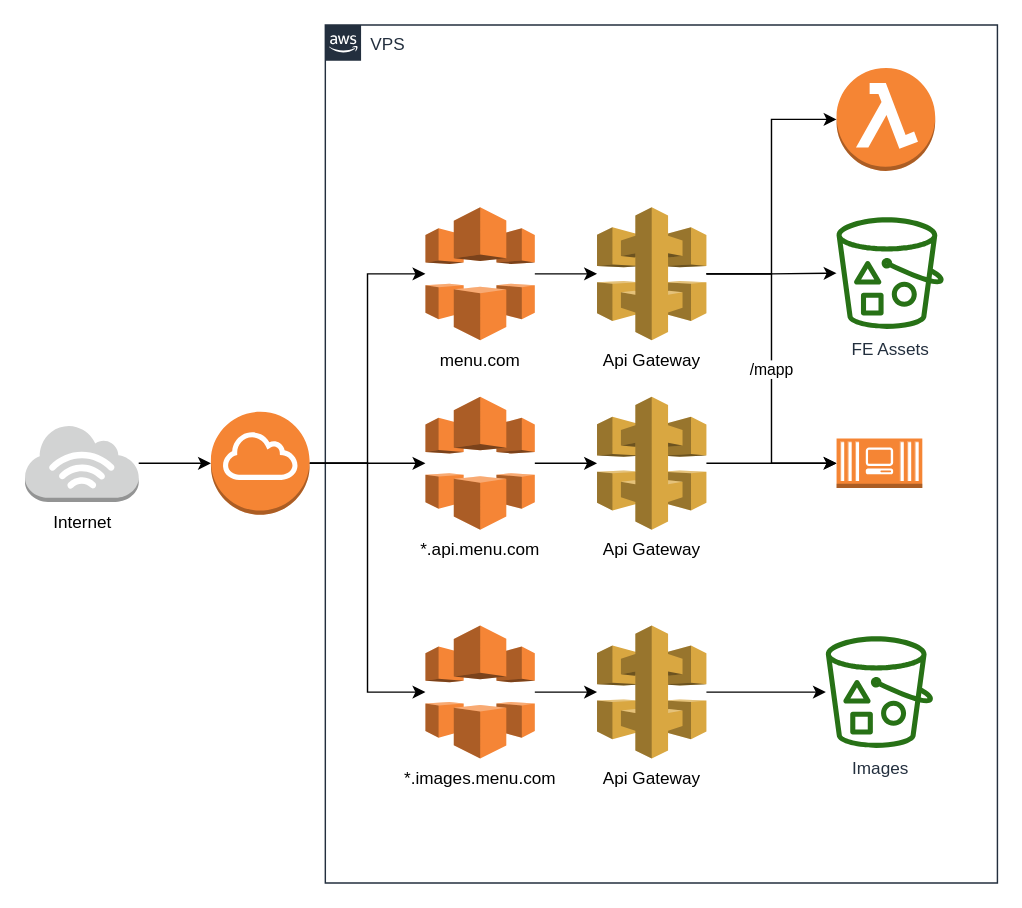
Some shapes in this 1022 by 908 pixel diagram are drawn without their labels. Here are the shapes that lost their labels. From the top down, the box of each, then its label:
(835, 66, 935, 171): FE App
(209, 410, 310, 515): Cloudflare
(835, 437, 922, 488): Windows Server
